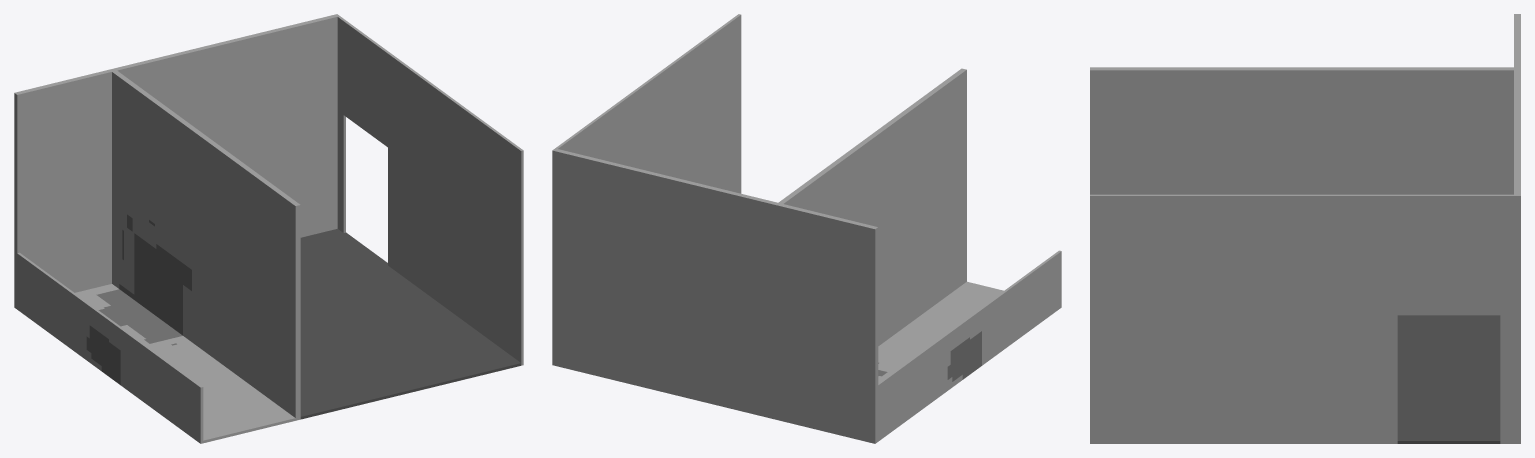
The model's file is 4x2 second-0.obj.
The picture shows the model from 3 angles, left to right: view 1: azimuth 30°, elevation 25°; view 2: azimuth 150°, elevation 25°; view 3: azimuth 270°, elevation 25°; orthographic projection. The views are drawn at different scales.
Visible parts, largest first — view 1: 4x2 second-0; view 2: 4x2 second-0; view 3: 4x2 second-0.
Part boxes in pixels (x1=…): 4x2 second-0: x1=14, y1=14, x2=523, y2=443; 4x2 second-0: x1=552, y1=14, x2=1061, y2=443; 4x2 second-0: x1=1090, y1=14, x2=1520, y2=443.
Size of the model in its own units: 126 by 80 by 126.
Materials: 1 (1 with a texture image).
